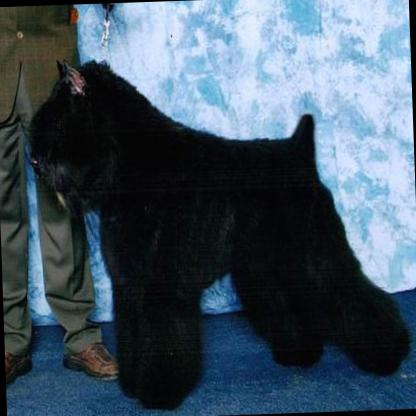Bouvier_des_Flandres: (22, 46, 414, 415)
